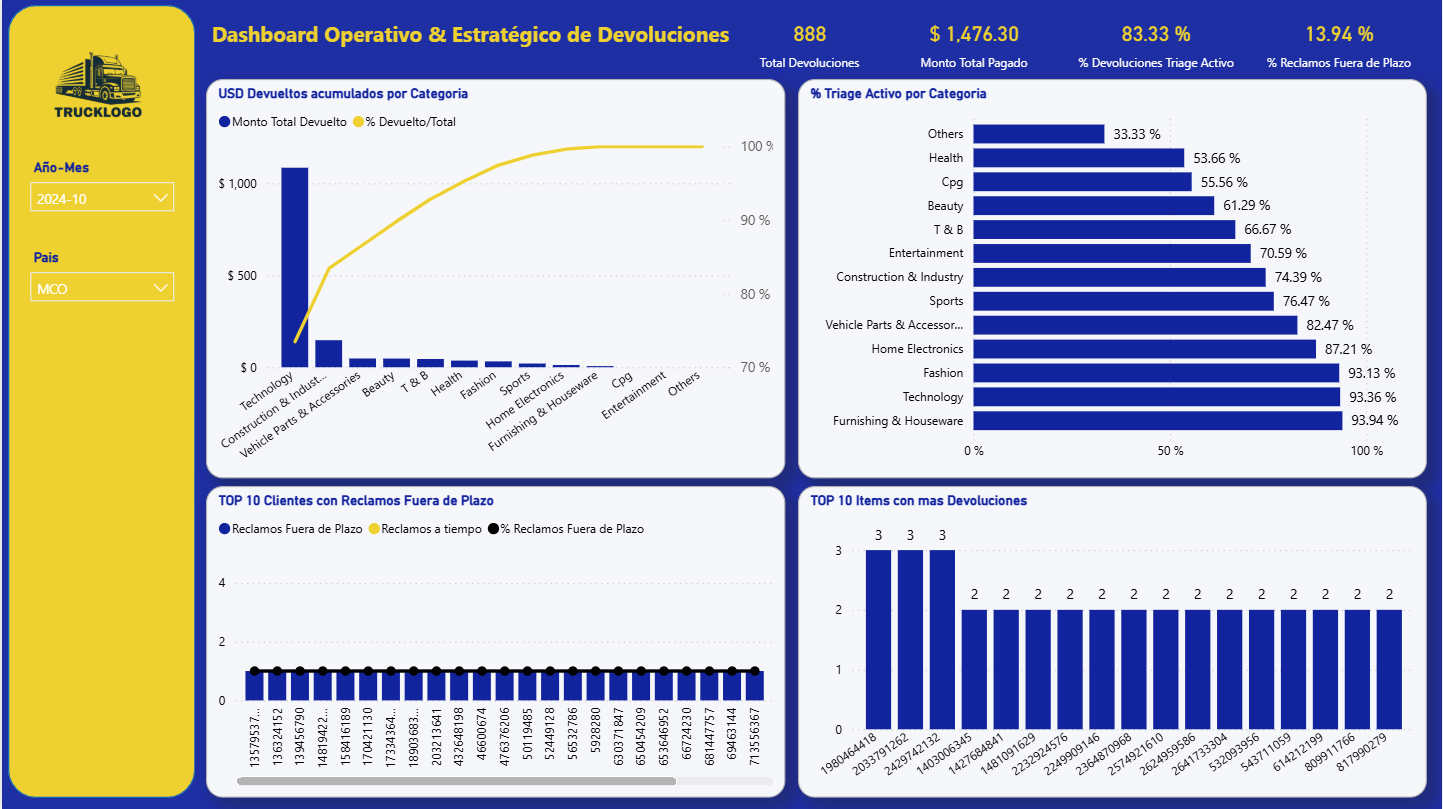

The page's visual inventory and layout, read from the dashboard file:
{"tool":"powerbi","page":{"name":"Slide 1","canvas":[1280,720],"ordinal":0},"visuals":[{"type":"shape","box":[4.9,4.9,166.3,704.8],"z":0},{"type":"slicer","fields":{"Values":["tbl_Devoluciones.SIT_SITE_ID"]},"box":[14.8,218.1,147.9,62.8],"z":1000},{"type":"slicer","fields":{"Values":["tbl_Calendario.Año-Mes"]},"box":[14.8,138,147.9,62.8],"z":2000},{"type":"card","fields":{"Values":["_Medidas.Total Devoluciones"]},"box":[639.5,4.9,157.7,66.5],"z":3000},{"type":"card","fields":{"Values":["_Medidas.Monto Total Pagado"]},"box":[786.1,4.9,156.5,66.5],"z":4000},{"type":"card","fields":{"Values":["_Medidas.% Devoluciones Triage Activo"]},"box":[943.9,4.9,163.9,66.5],"z":5000},{"type":"card","fields":{"Values":["_Medidas.% Reclamos Fuera de Plazo"]},"box":[1110.2,4.9,156.5,66.5],"z":6000},{"type":"lineStackedColumnComboChart","title":"USD Devueltos acumulados por Categoria","fields":{"Category":["tbl_Devoluciones.VERTICAL"],"Y":["_Medidas.Monto Total Pagado"],"Y2":["_Medidas.% Devuelto/Total"]},"box":[181.1,71.5,515.1,354.9],"z":7000},{"type":"clusteredBarChart","title":"% Triage Activo por Categoria","fields":{"Category":["tbl_Devoluciones.VERTICAL"],"Y":["_Medidas.% Devoluciones Triage Activo"]},"box":[707.3,71.5,559.4,354.9],"z":8000},{"type":"lineStackedColumnComboChart","title":"TOP 10 Clientes con Reclamos Fuera de Plazo","fields":{"Category":["tbl_Devoluciones.CUS_CUST_ID"],"Y":["_Medidas.Reclamos Fuera de Plazo","_Medidas.REclamos a tiempo"],"Y2":["_Medidas.% Reclamos Fuera de Plazo"]},"box":[181.1,432.5,515.1,277.2],"z":9000},{"type":"columnChart","title":"TOP 10 Items con mas Devoluciones","fields":{"Category":["tbl_Devoluciones.ITE_ITEM_ID"],"Y":["_Medidas.Total Devoluciones"]},"box":[707.3,432.5,559.4,277.2],"z":10000},{"type":"textbox","box":[181.1,13.6,486.7,51.8],"z":11000},{"type":"image","box":[0,0,171.4,152.4],"z":12000}]}

Visuals, with their boxes in screenshot pixels (x1, y1, x2, y2), scaled from the page's 1280x720 canvas onto the 1443x809 screenshot:
shape: (6, 6, 193, 797)
slicer - tbl_Devoluciones.SIT_SITE_ID: (17, 245, 183, 316)
slicer - tbl_Calendario.Año-Mes: (17, 155, 183, 226)
card - _Medidas.Total Devoluciones: (721, 6, 899, 80)
card - _Medidas.Monto Total Pagado: (886, 6, 1063, 80)
card - _Medidas.% Devoluciones Triage Activo: (1064, 6, 1249, 80)
card - _Medidas.% Reclamos Fuera de Plazo: (1252, 6, 1428, 80)
"USD Devueltos acumulados por Categoria" lineStackedColumnComboChart: (204, 80, 785, 479)
"% Triage Activo por Categoria" clusteredBarChart: (797, 80, 1428, 479)
"TOP 10 Clientes con Reclamos Fuera de Plazo" lineStackedColumnComboChart: (204, 486, 785, 797)
"TOP 10 Items con mas Devoluciones" columnChart: (797, 486, 1428, 797)
textbox: (204, 15, 753, 73)
image: (0, 0, 193, 171)
